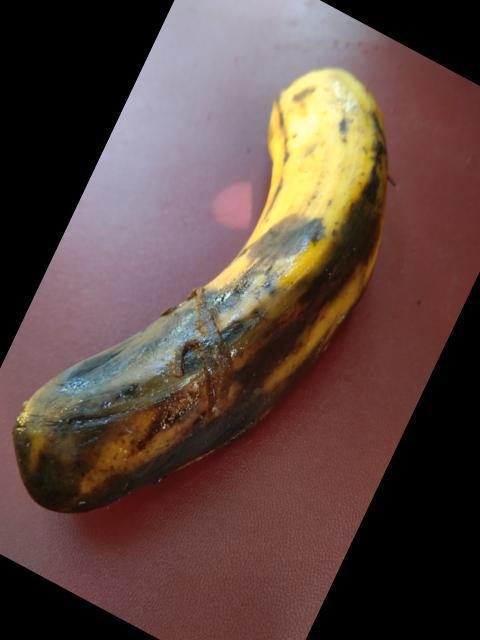rotten: (0, 54, 397, 526)
